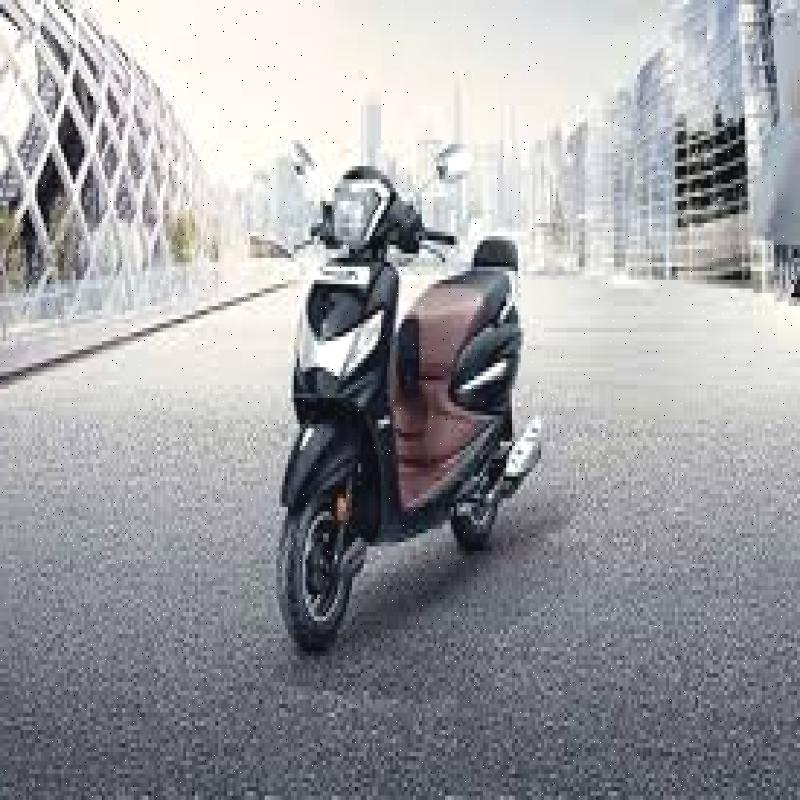bike: (260, 108, 559, 670)
